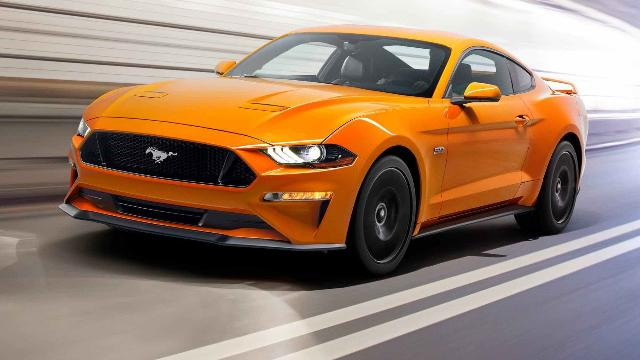ford: (57, 25, 589, 278)
